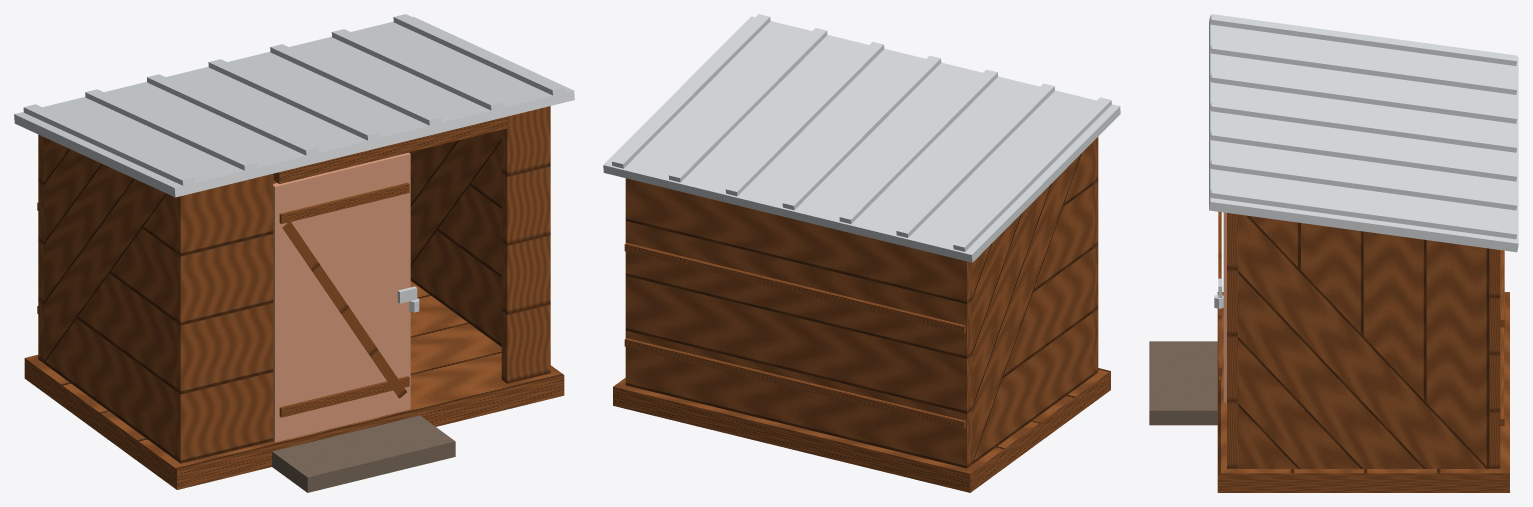
Rendered from allotments-and-community-garden-communal-tool-store-a7ed2201__35169.glb.
The picture shows the model from 3 angles, left to right: view 1: azimuth 30°, elevation 25°; view 2: azimuth 150°, elevation 25°; view 3: azimuth 270°, elevation 25°; orthographic projection. The views are drawn at different scales.
Visible parts, largest first — view 1: communal-tool-store-timber, communal-tool-store-galv, door/terracotta, communal-tool-store-soil, door/timber; view 2: communal-tool-store-timber, communal-tool-store-galv; view 3: communal-tool-store-timber, communal-tool-store-galv, communal-tool-store-soil, door/terracotta, door/timber.
Boxes of the visible parts, left/top/right/bottom form: communal-tool-store-timber: left=24, top=106, right=564, bottom=489; communal-tool-store-galv: left=14, top=14, right=574, bottom=197; door/terracotta: left=273, top=152, right=410, bottom=442; communal-tool-store-soil: left=272, top=415, right=455, bottom=492; door/timber: left=279, top=182, right=409, bottom=417; communal-tool-store-timber: left=613, top=137, right=1110, bottom=492; communal-tool-store-galv: left=603, top=14, right=1120, bottom=262; communal-tool-store-timber: left=1217, top=213, right=1509, bottom=492; communal-tool-store-galv: left=1209, top=14, right=1518, bottom=252; communal-tool-store-soil: left=1149, top=341, right=1217, bottom=425; door/terracotta: left=1223, top=212, right=1226, bottom=402; door/timber: left=1218, top=211, right=1221, bottom=380.
Bounding box in the file's own units: 3.24 × 2.41 × 2.7.
4 materials, 2 textured.
